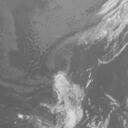cyclone: (51, 71, 91, 119)
